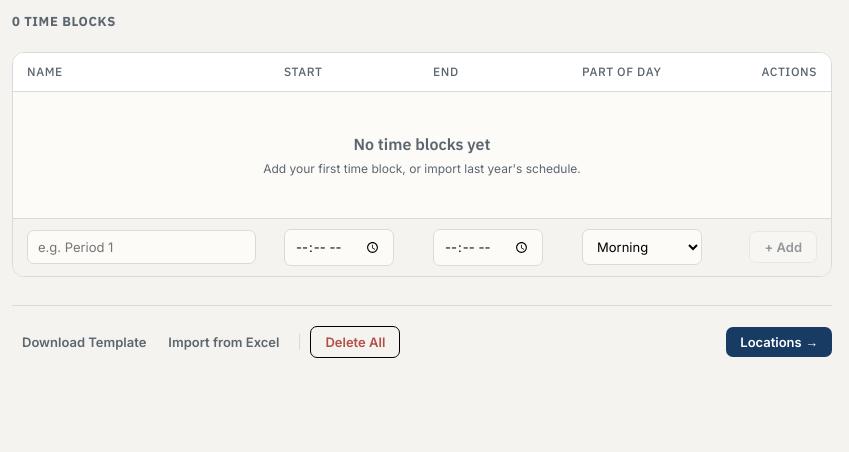
Test: TimeBlocksScreen — add › cleans up a partial row if a later field write fails during add
The width and height of the screenshot is (849, 452).
In the field with placeholder "e.g. Period 1": (142, 247) [27,230,256,264], type "Block 1"
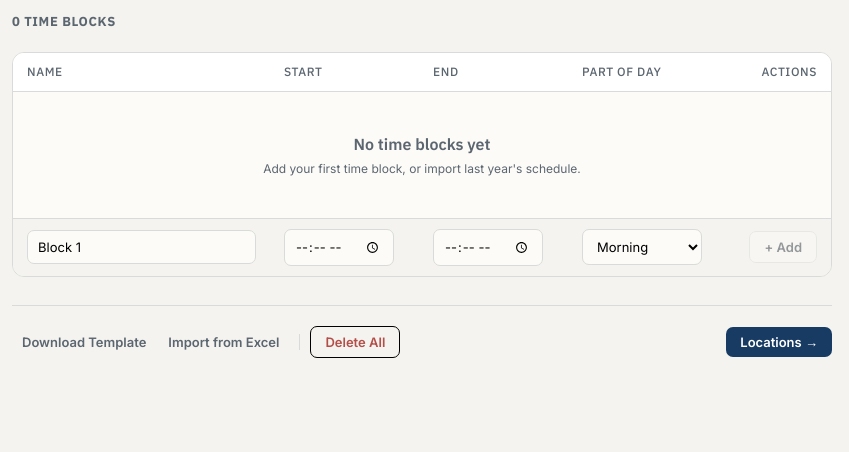
In the 1st time field: (339, 247) [284,228,394,266], type "09:00"
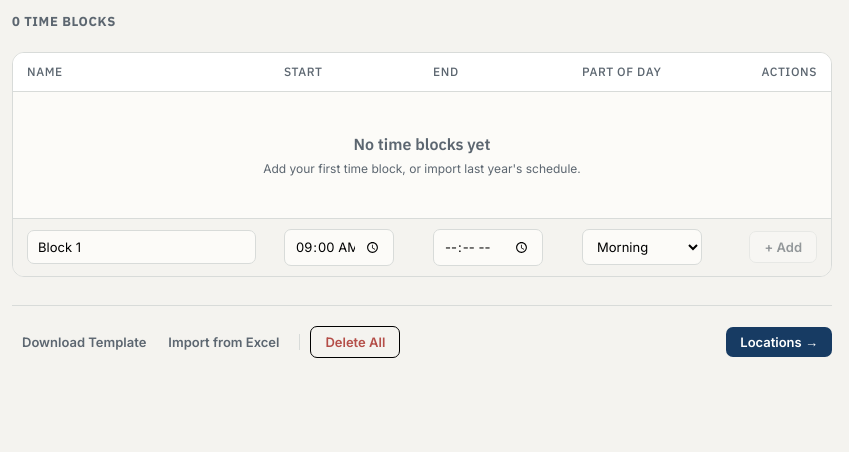
In the 2nd time field: (488, 247) [433,228,543,266], type "10:00"
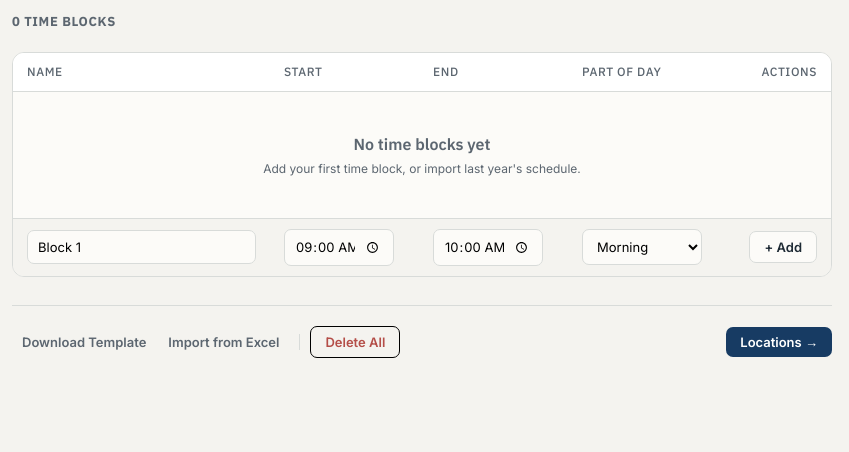
Click the button "+ Add": (783, 247) [750,231,817,263]
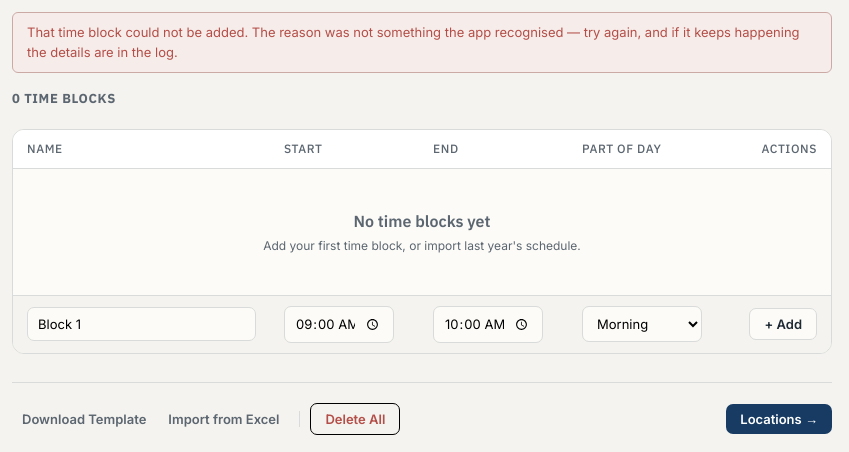
Result: the text "That time block could not be added" is shown at [27,24,800,60]
